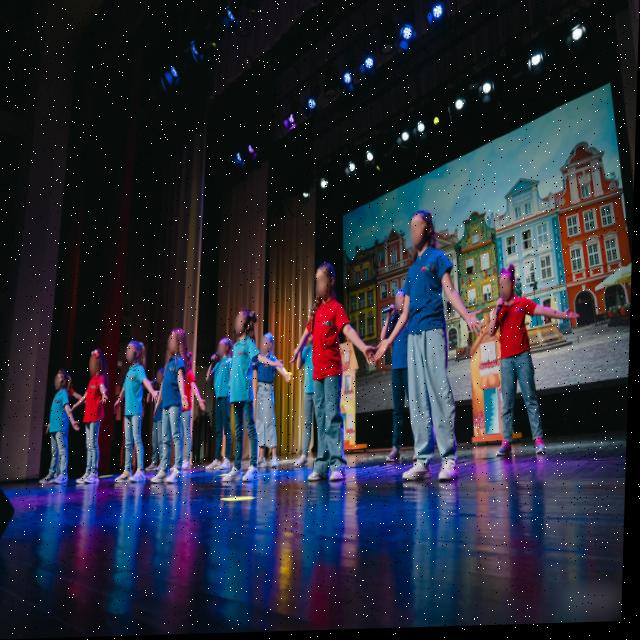Person: (394, 186, 476, 503), (487, 246, 576, 482), (306, 248, 367, 506), (376, 268, 422, 476), (225, 297, 269, 496), (154, 317, 201, 495), (250, 321, 292, 483), (294, 289, 330, 473), (119, 331, 158, 489), (34, 357, 79, 490), (207, 327, 241, 494), (79, 337, 112, 497)
